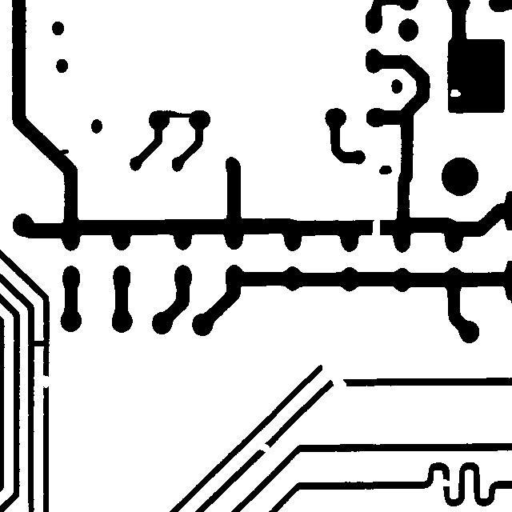copper: (371, 158, 399, 182)
open: (322, 366, 354, 398), (30, 366, 59, 395), (364, 210, 387, 246), (432, 471, 460, 494), (251, 435, 277, 459)
pin-hole: (442, 82, 468, 104)
short: (155, 102, 198, 125), (23, 333, 52, 354)
spur: (50, 142, 76, 162)
